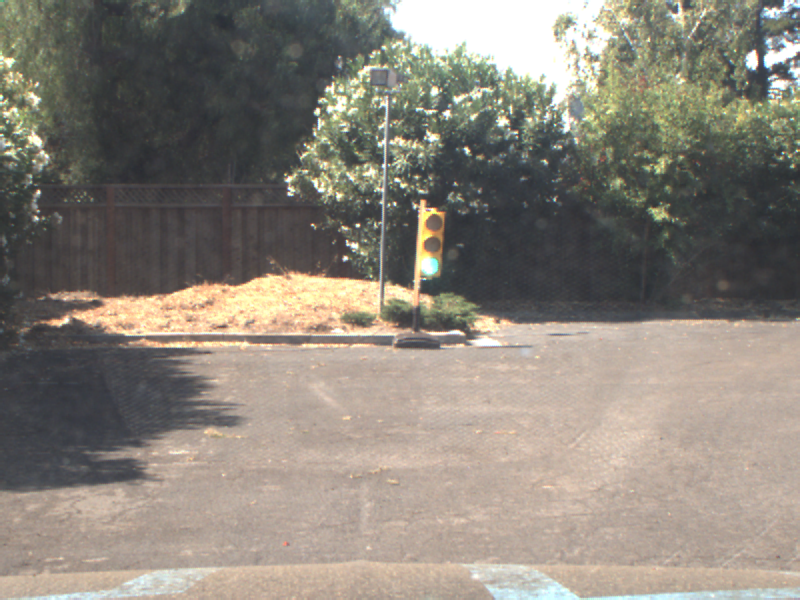green: (415, 201, 444, 280)
